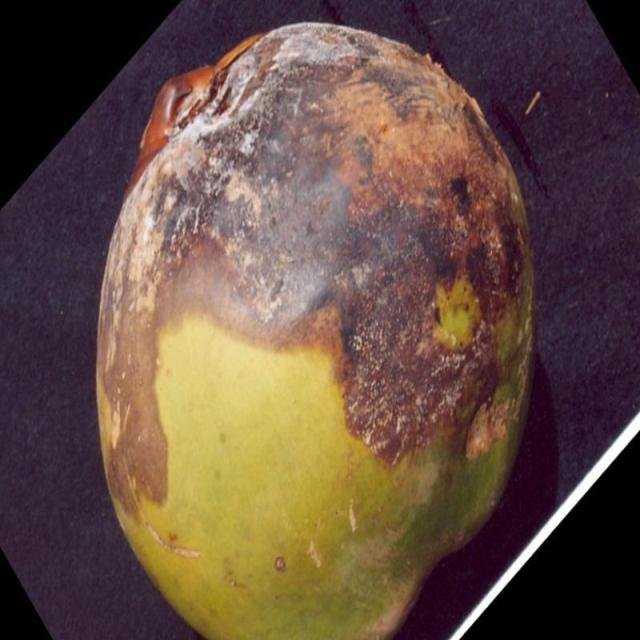damaged: (94, 22, 538, 639)
